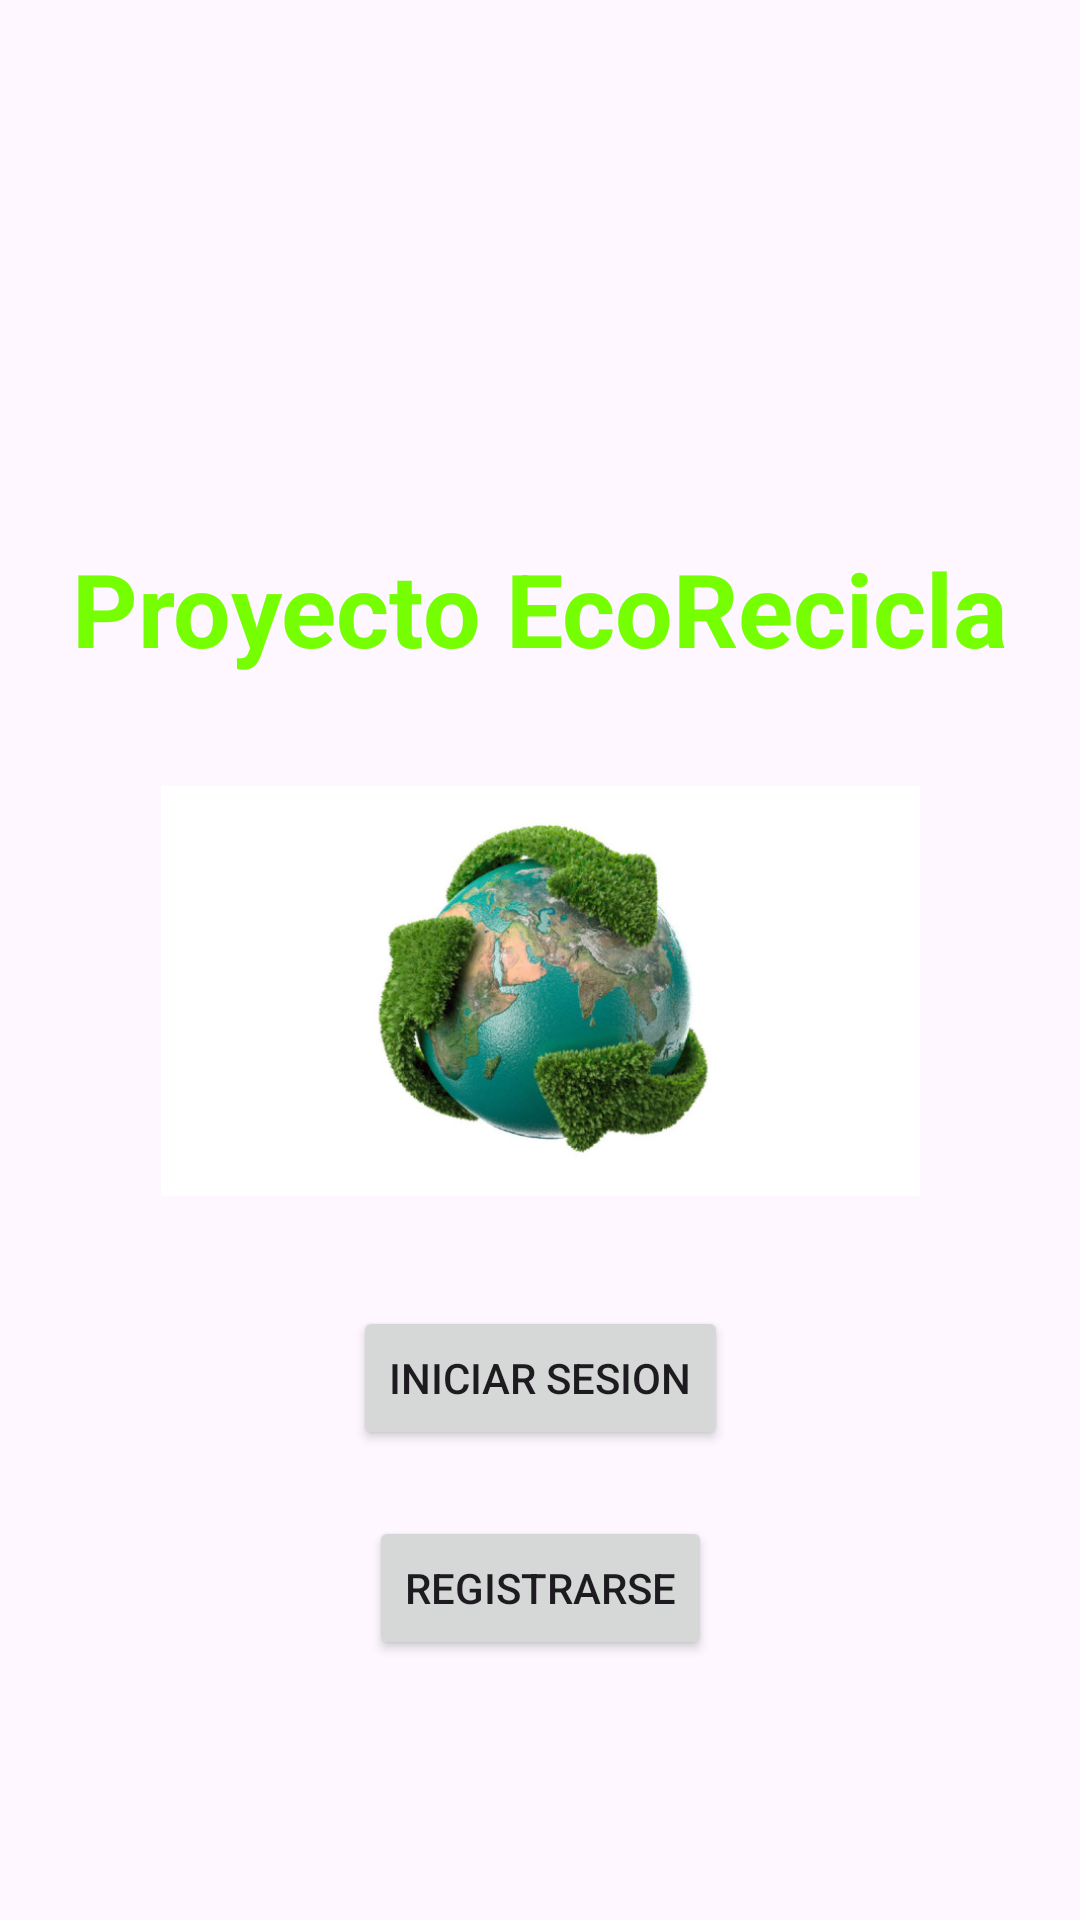

Locate icon controls on the screen. Image size 1080 × 1920, boxes as {"left": x1, "top": y1, "right": x2, "bottom": y2}.
reciclaje: {"left": 378, "top": 824, "right": 708, "bottom": 1153}
